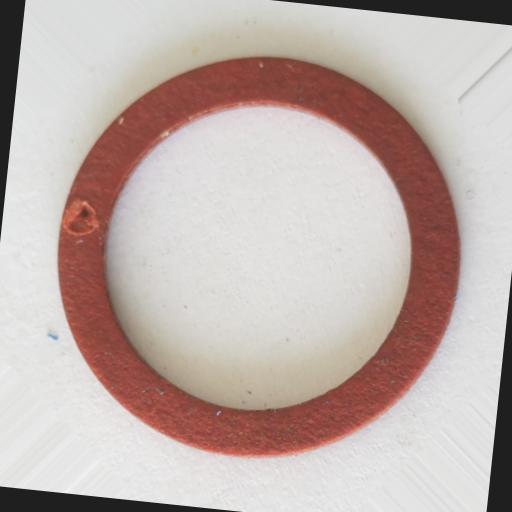defect: (60, 196, 104, 240)
